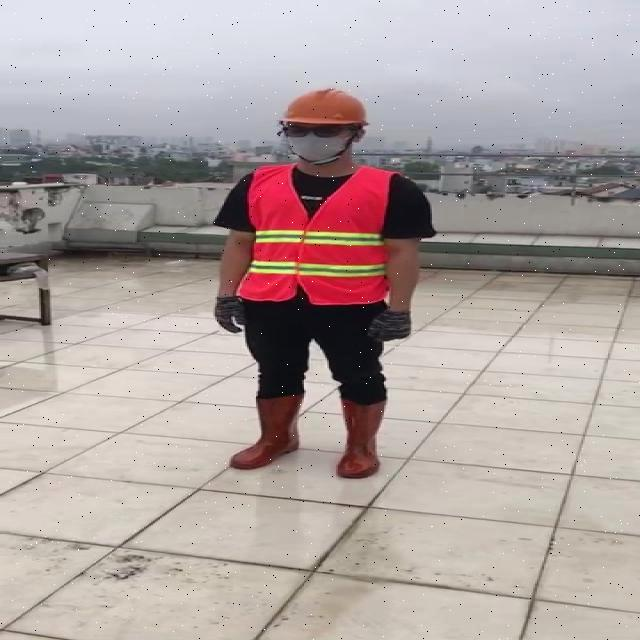Hard_hat: (274, 87, 376, 139)
Person: (206, 89, 444, 484)
Vest: (241, 160, 390, 307)
